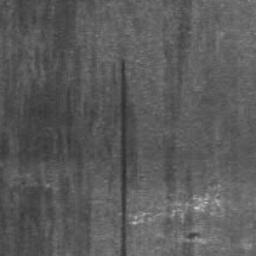Scratches: (119, 60, 128, 256)
